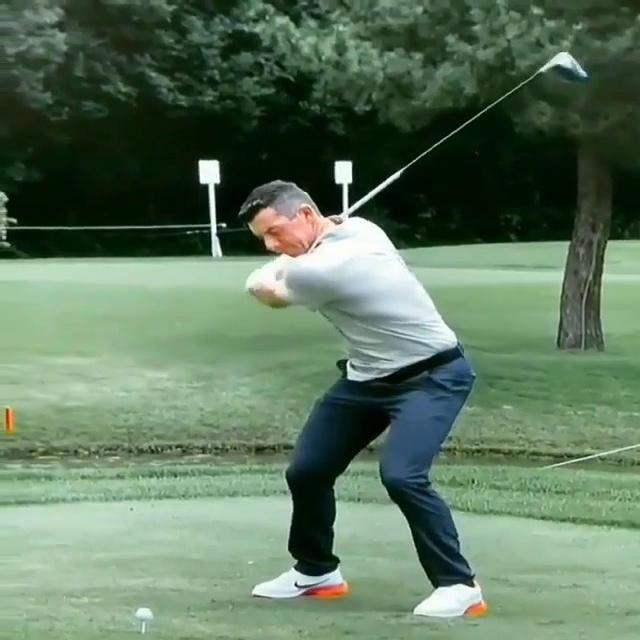golf ball: (136, 608, 153, 620)
golf club-handle: (342, 52, 588, 218)
golf club-head: (550, 54, 589, 82)
